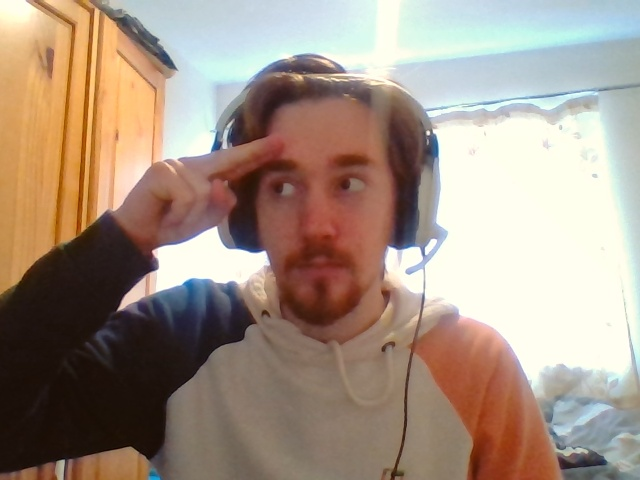name: (140, 134, 285, 233)
